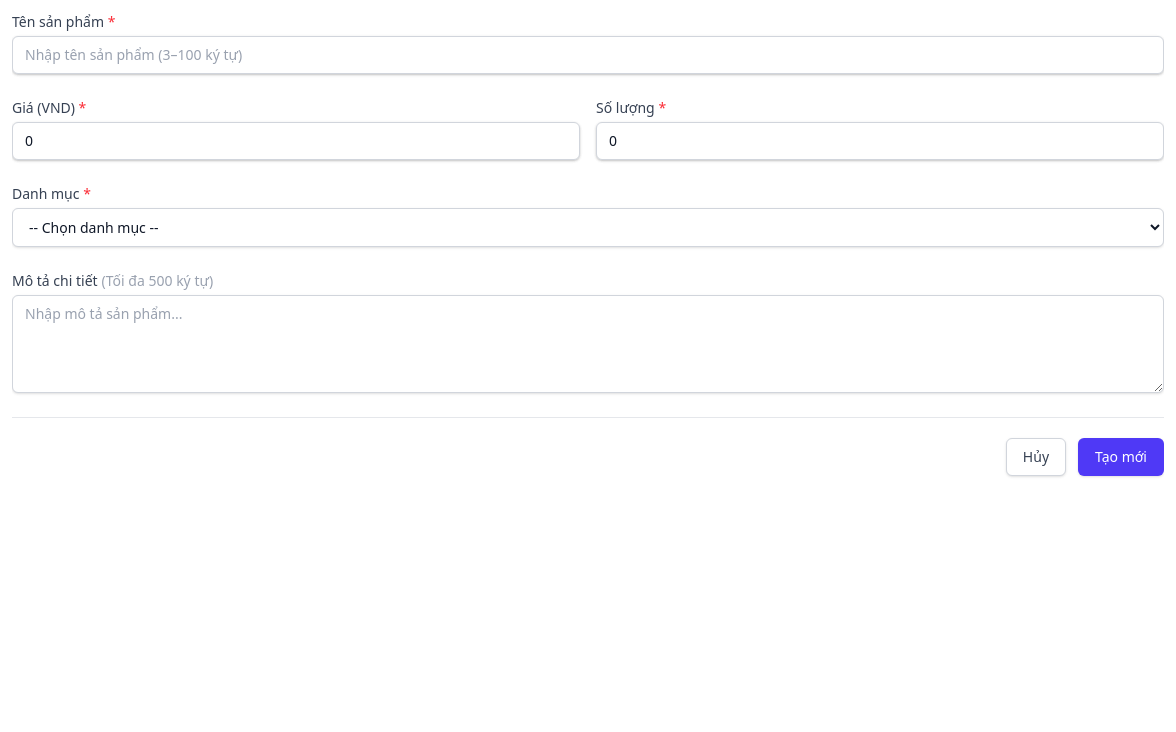
ProductForm Integration Tests › TC9: Khong chon category - bao loi summary
Click the button with test id "submit-button" at (1121, 457), box 1078,438 -> 1164,476
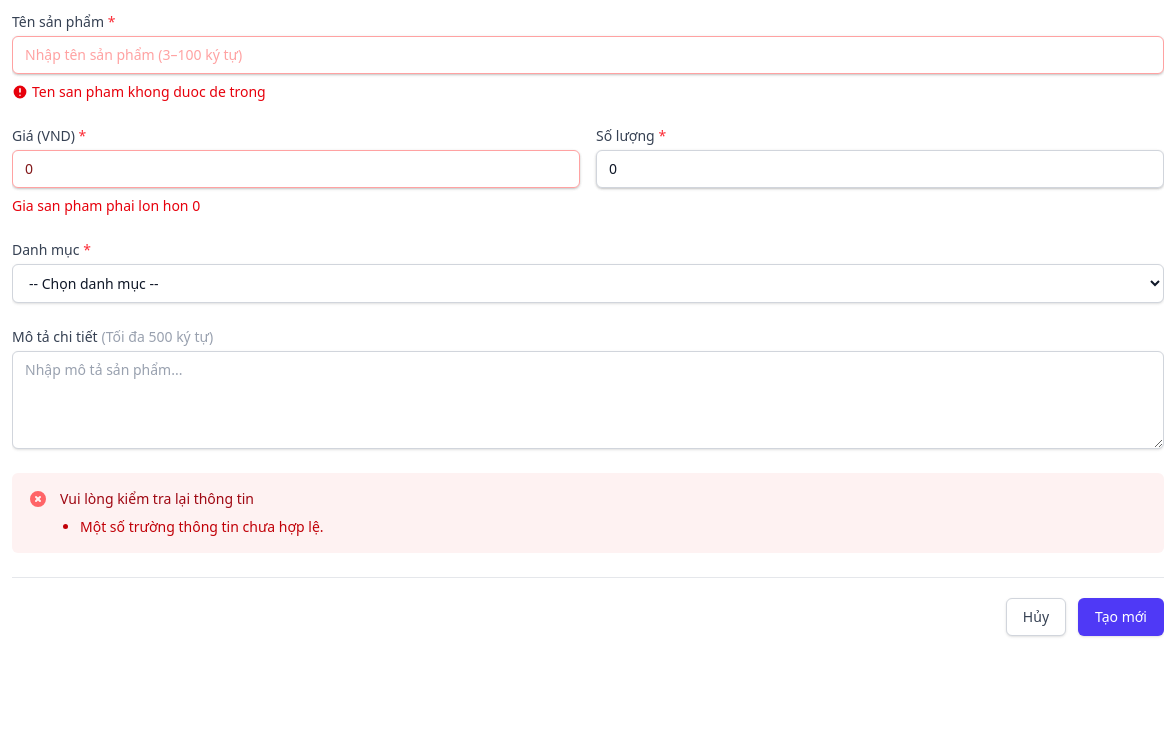
Expected: the element with test id "summary-errors" is shown, 12,473 -> 1164,553
